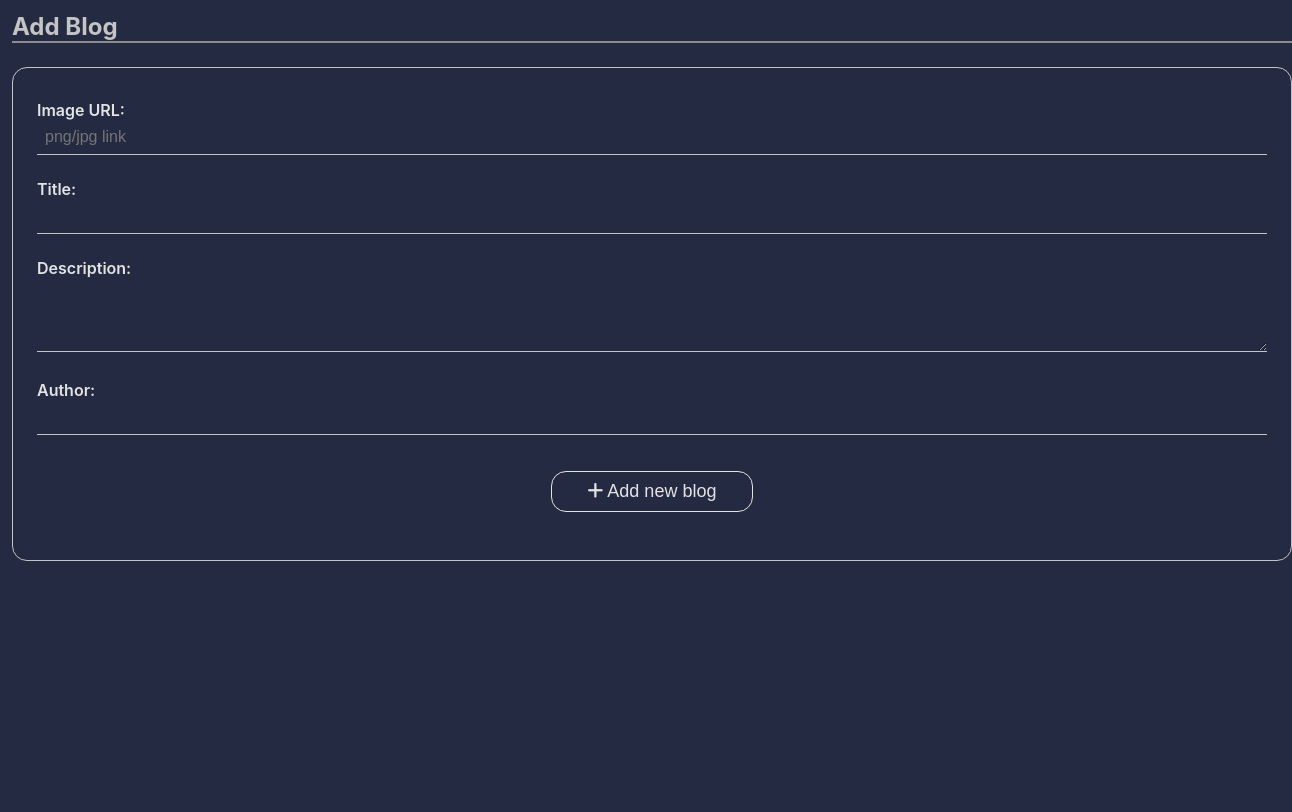
Test: show error when invalid email
The image size is (1292, 812).
Type "sdfgdfg" into the field labelled "Image URL:". click: (652, 138)
box: [37,120,1267,155]
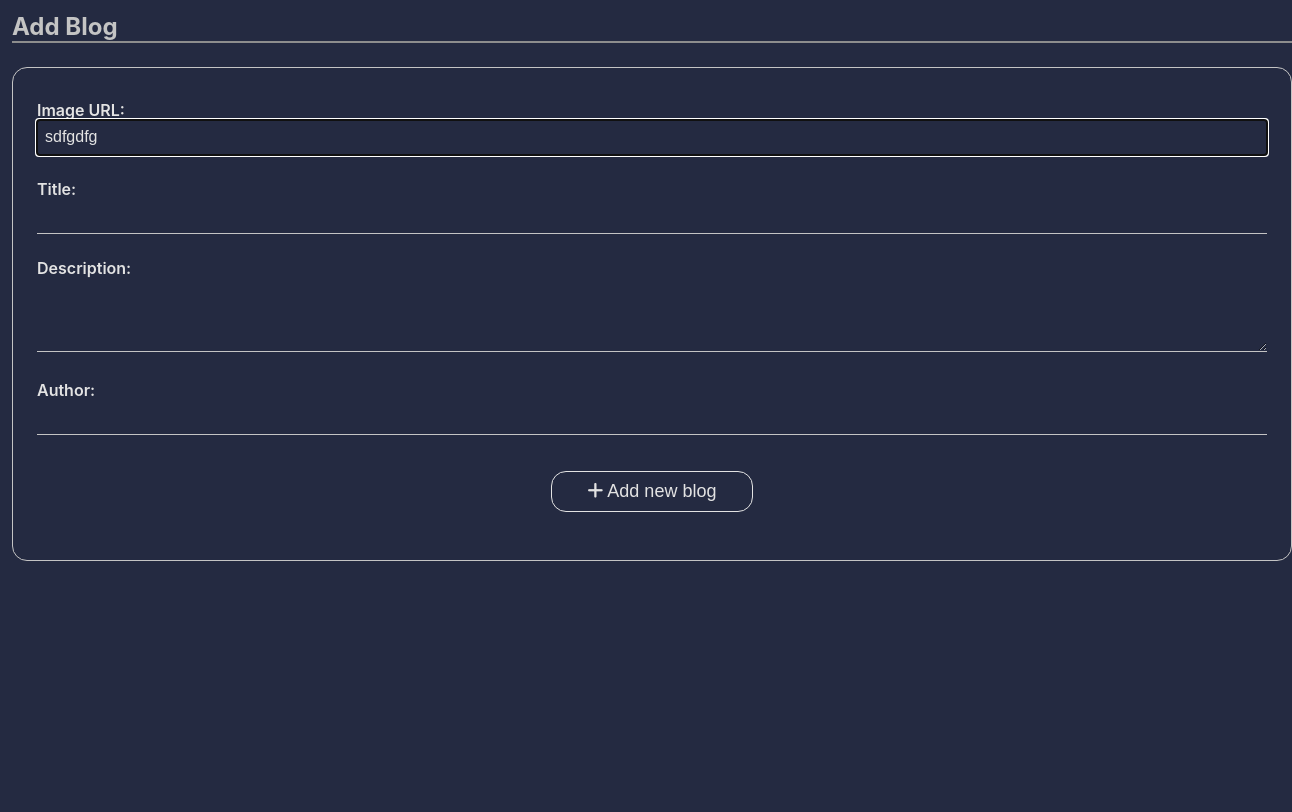
Click the button "Add new blog". click: (652, 492)
box: [551,471,753,512]
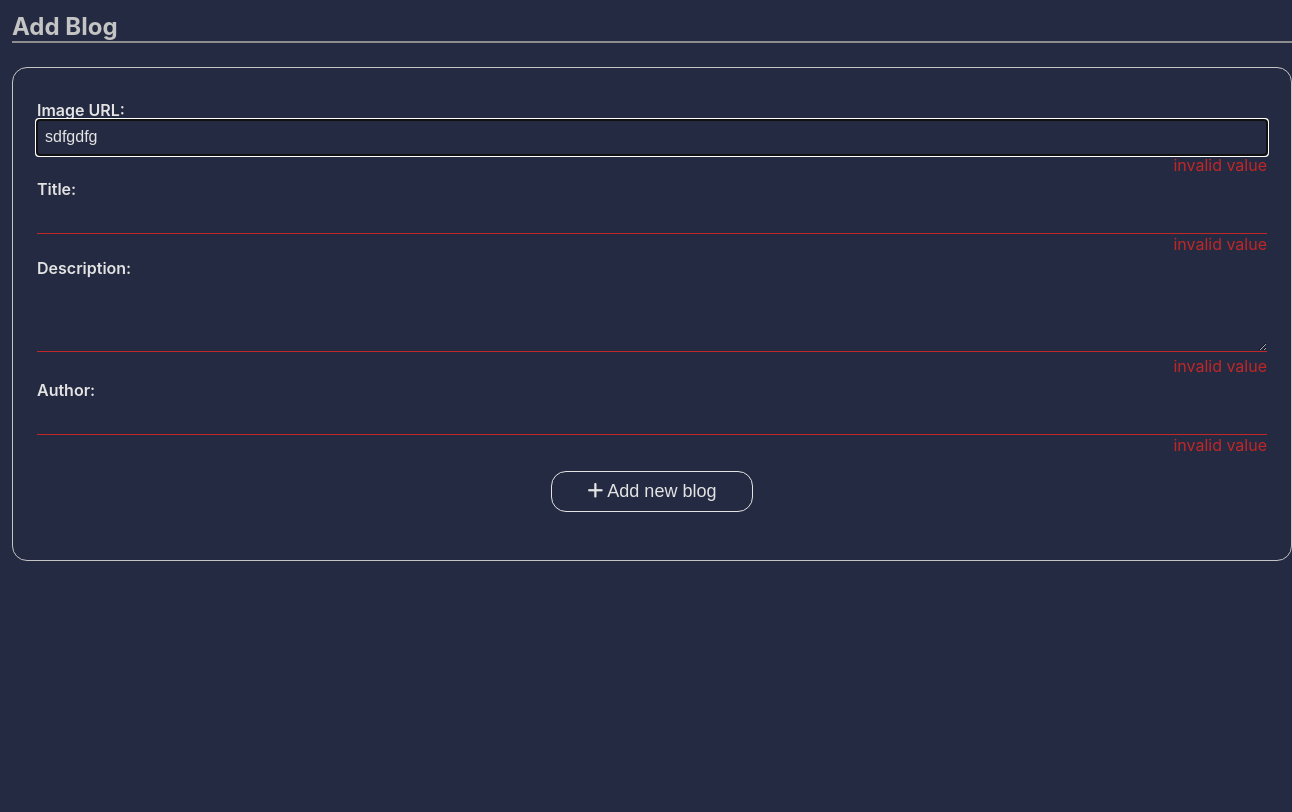
Expected: the number of messages is 4, [1173,155,1267,175]; [1173,234,1267,254]; [1173,356,1267,376]; [1173,435,1267,455]
